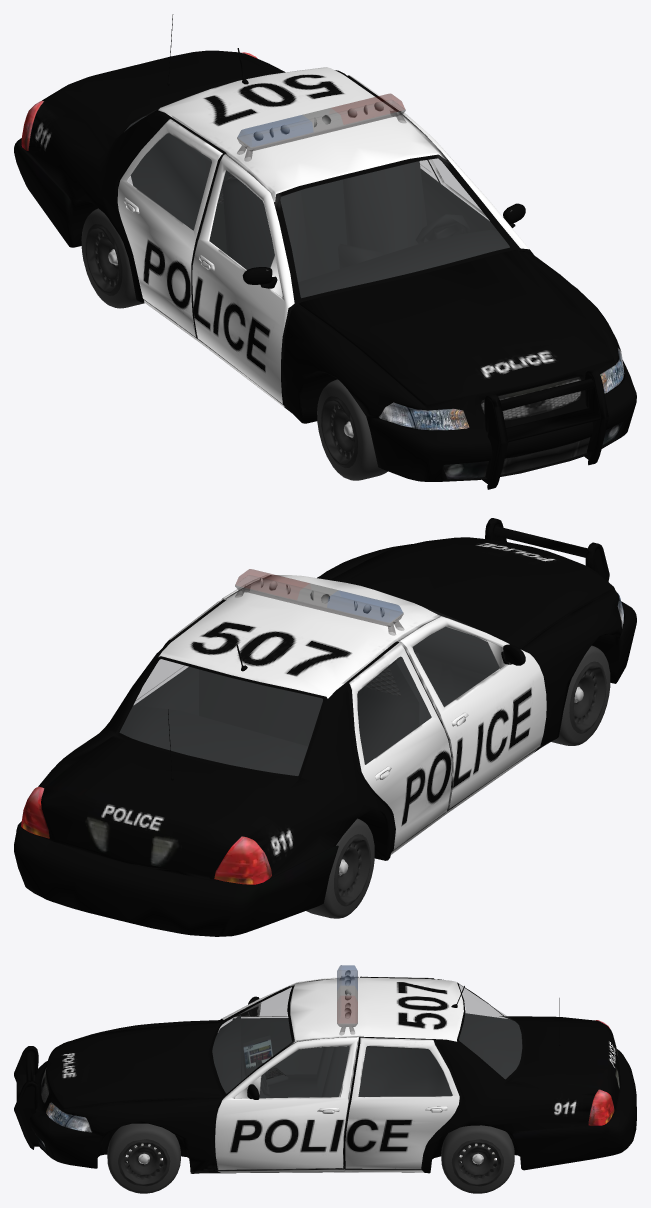
The model's file is policeCar.glb.
3 renders of one model, top to bottom at view 1: azimuth 30°, elevation 25°; view 2: azimuth 150°, elevation 25°; view 3: azimuth 270°, elevation 25°, orthographic. The views are drawn at different scales.
Visible parts, largest first — view 1: CrownVic.Body, windows glass, interior, CrownVic.Wheel.Ft.R, Roof light bar, CrownVic.Wheel.Bk.R; view 2: CrownVic.Body, windows glass, interior, Roof light bar, CrownVic.Wheel.Bk.R, CrownVic.Wheel.Ft.R; view 3: CrownVic.Body, windows glass, interior, CrownVic.Wheel.Ft.L, CrownVic.Wheel.Bk.L, Roof light bar.
Boxes of the visible parts, box(x1,y1,x2,y2) form: CrownVic.Body: box(14, 14, 636, 489); windows glass: box(125, 109, 509, 297); interior: box(125, 116, 509, 297); CrownVic.Wheel.Ft.R: box(317, 379, 387, 480); Roof light bar: box(237, 93, 406, 161); CrownVic.Wheel.Bk.R: box(81, 208, 144, 308); CrownVic.Body: box(14, 518, 636, 936); windows glass: box(120, 607, 499, 775); interior: box(119, 627, 499, 775); Roof light bar: box(235, 569, 404, 635); CrownVic.Wheel.Bk.R: box(306, 818, 374, 918); CrownVic.Wheel.Ft.R: box(551, 645, 610, 745); CrownVic.Body: box(14, 976, 636, 1173); windows glass: box(212, 984, 521, 1097); interior: box(212, 1013, 522, 1098); CrownVic.Wheel.Ft.L: box(107, 1123, 180, 1193); CrownVic.Wheel.Bk.L: box(441, 1125, 514, 1193); Roof light bar: box(337, 965, 357, 1035).
Size of the model in its own units: 1.73 by 1.39 by 4.7.
Materials: 7 (5 with a texture image).
